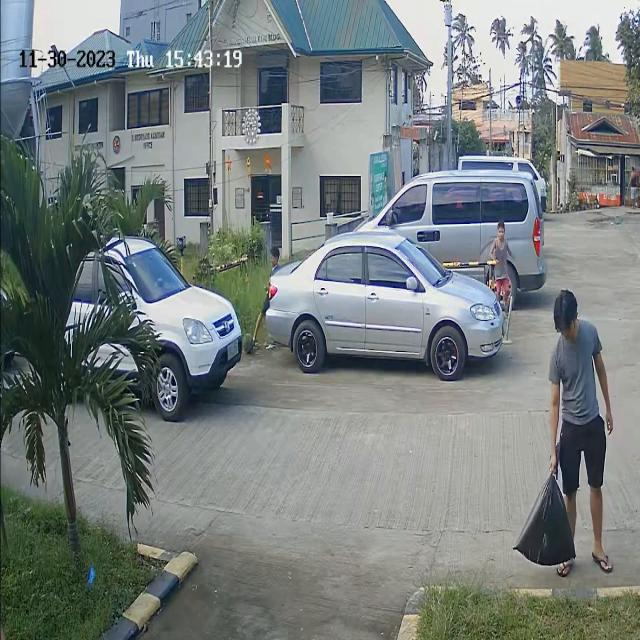garbage: (506, 453, 581, 578)
person: (545, 292, 613, 448), (491, 218, 516, 292)
